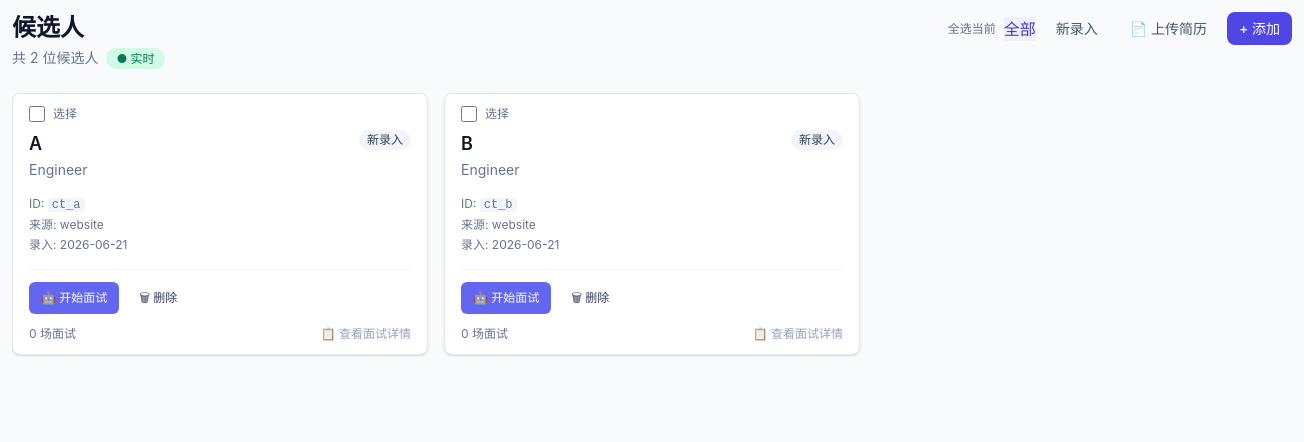
Test: Candidates — multi-select + batch toolbar › "全选当前" selects all visible candidates
Click the button with test id "select-all-toggle": click(972, 28) x1=948 y1=20 x2=996 y2=36
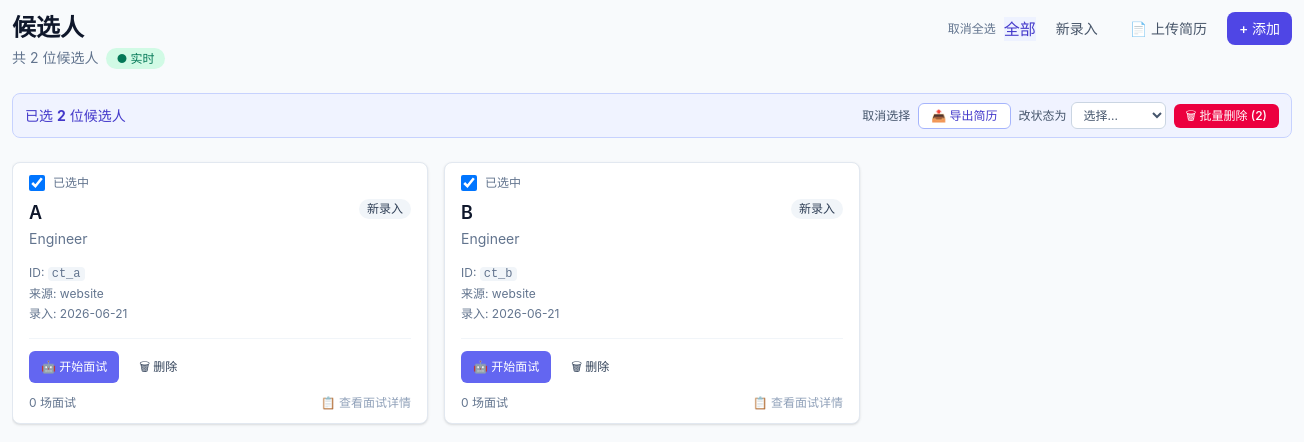
Check: the element with test id "batch-selected-count" shows "2", box x1=57 y1=107 x2=66 y2=124
Check: the button with test id "select-all-toggle" reads "取消全选"
Note: Click again to clear
Click the button with test id "select-all-toggle": click(972, 28) x1=948 y1=20 x2=996 y2=36
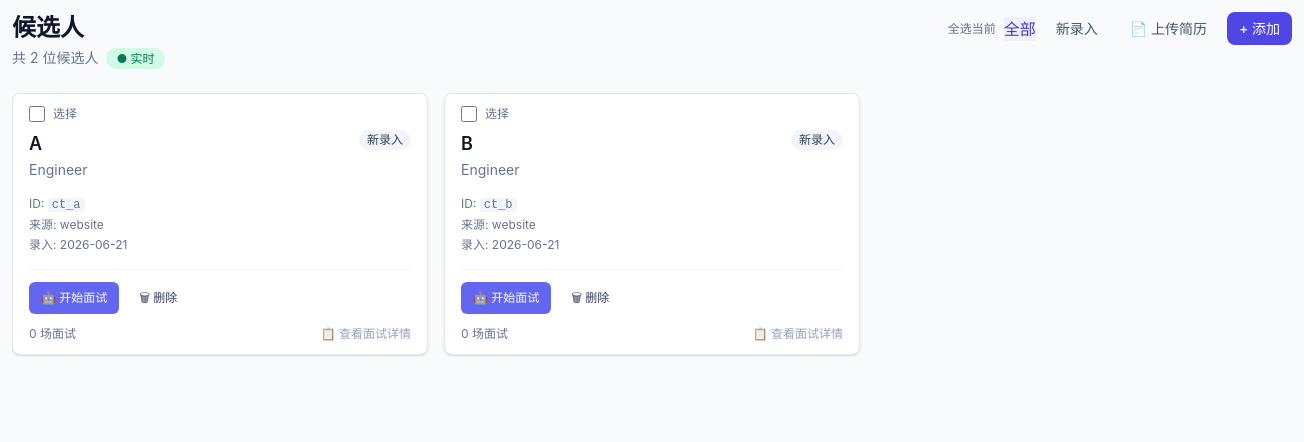
Check: the element with test id "batch-action-toolbar" is gone
